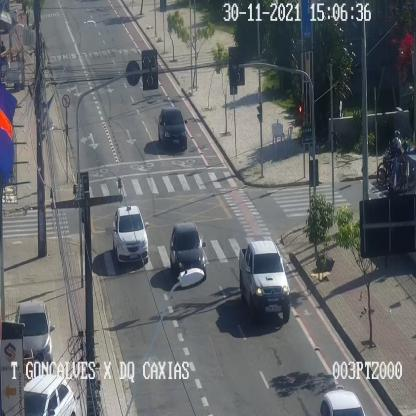car: (239, 240, 289, 321), (16, 301, 52, 372), (23, 374, 76, 415), (170, 221, 206, 279), (112, 205, 148, 262), (158, 107, 187, 148), (320, 390, 364, 415)
motorbike: (376, 137, 407, 184), (378, 130, 406, 179), (386, 140, 414, 188)
